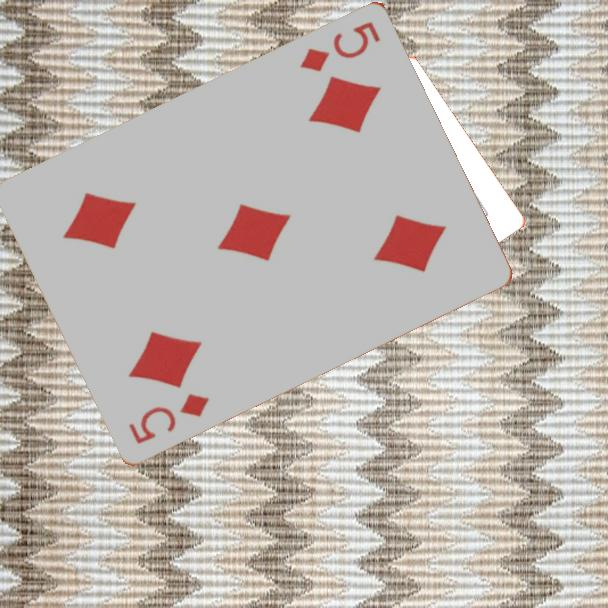d05: (125, 389, 213, 447), (296, 17, 384, 74)
